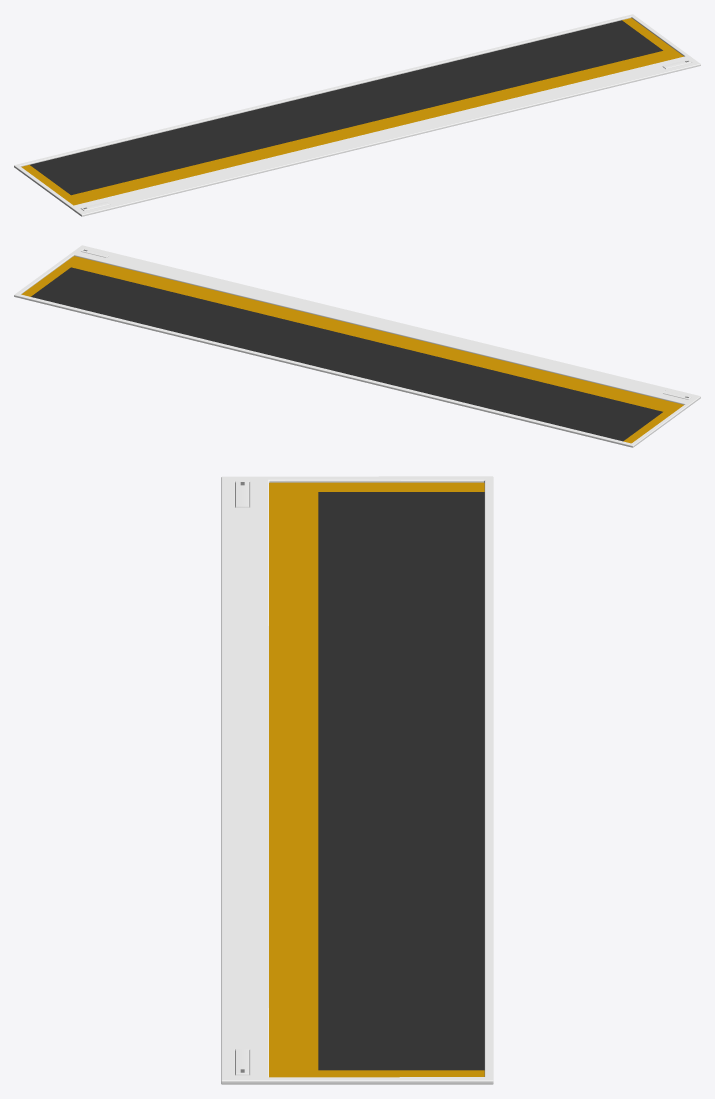
3 renders of one model, top to bottom at view 1: azimuth 30°, elevation 25°; view 2: azimuth 150°, elevation 25°; view 3: azimuth 270°, elevation 25°, orthographic. The views are drawn at different scales.
Parts seen in each view (by area): view 1: SM_H_Decal_WellLid_07; view 2: SM_H_Decal_WellLid_07; view 3: SM_H_Decal_WellLid_07.
Boxes of the visible parts, left/top/right/bottom form: SM_H_Decal_WellLid_07: left=14, top=14, right=700, bottom=216; SM_H_Decal_WellLid_07: left=14, top=245, right=700, bottom=447; SM_H_Decal_WellLid_07: left=221, top=476, right=493, bottom=1084.
Size of the model in its own units: 75.45 by 396 by 1.56.
